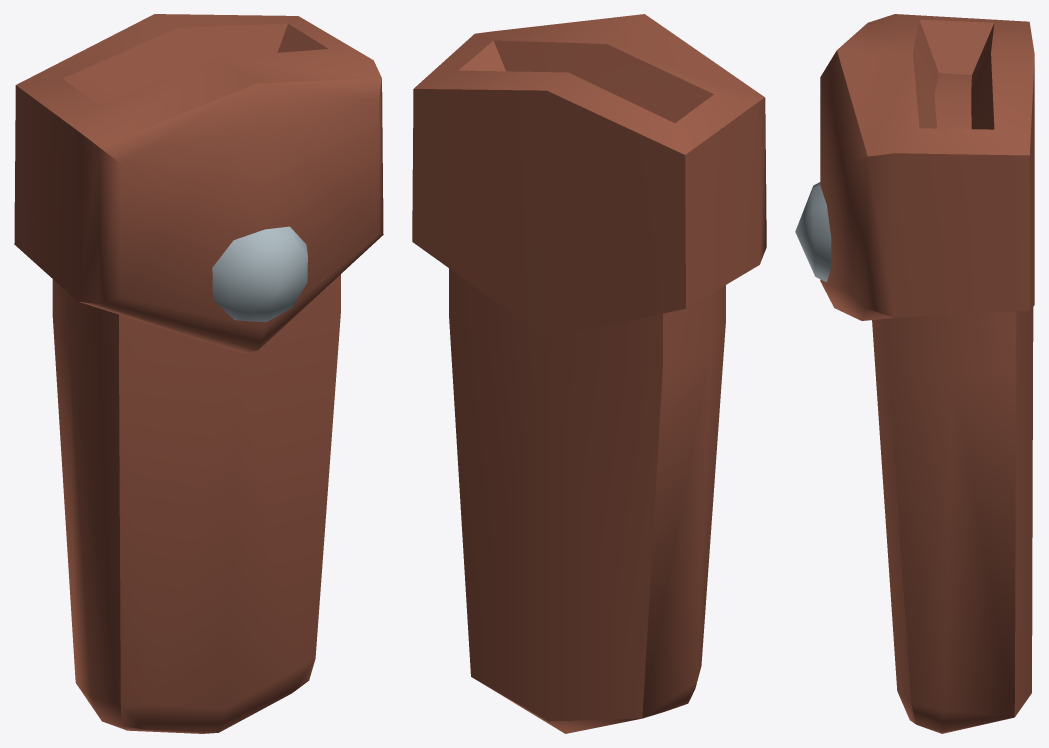
File: quiver_empty.dae
The picture shows the model from 3 angles, left to right: view 1: azimuth 30°, elevation 25°; view 2: azimuth 150°, elevation 25°; view 3: azimuth 270°, elevation 25°; orthographic projection. The views are drawn at different scales.
Visible parts, largest first — view 1: quiver_empty; view 2: quiver_empty; view 3: quiver_empty.
Boxes of the visible parts, box(x1,y1,x2,y2) form: quiver_empty: box(14, 14, 383, 733); quiver_empty: box(412, 14, 766, 733); quiver_empty: box(795, 14, 1034, 733).
Bounding box in the file's own units: 0.2481 × 0.178 × 0.5483.
